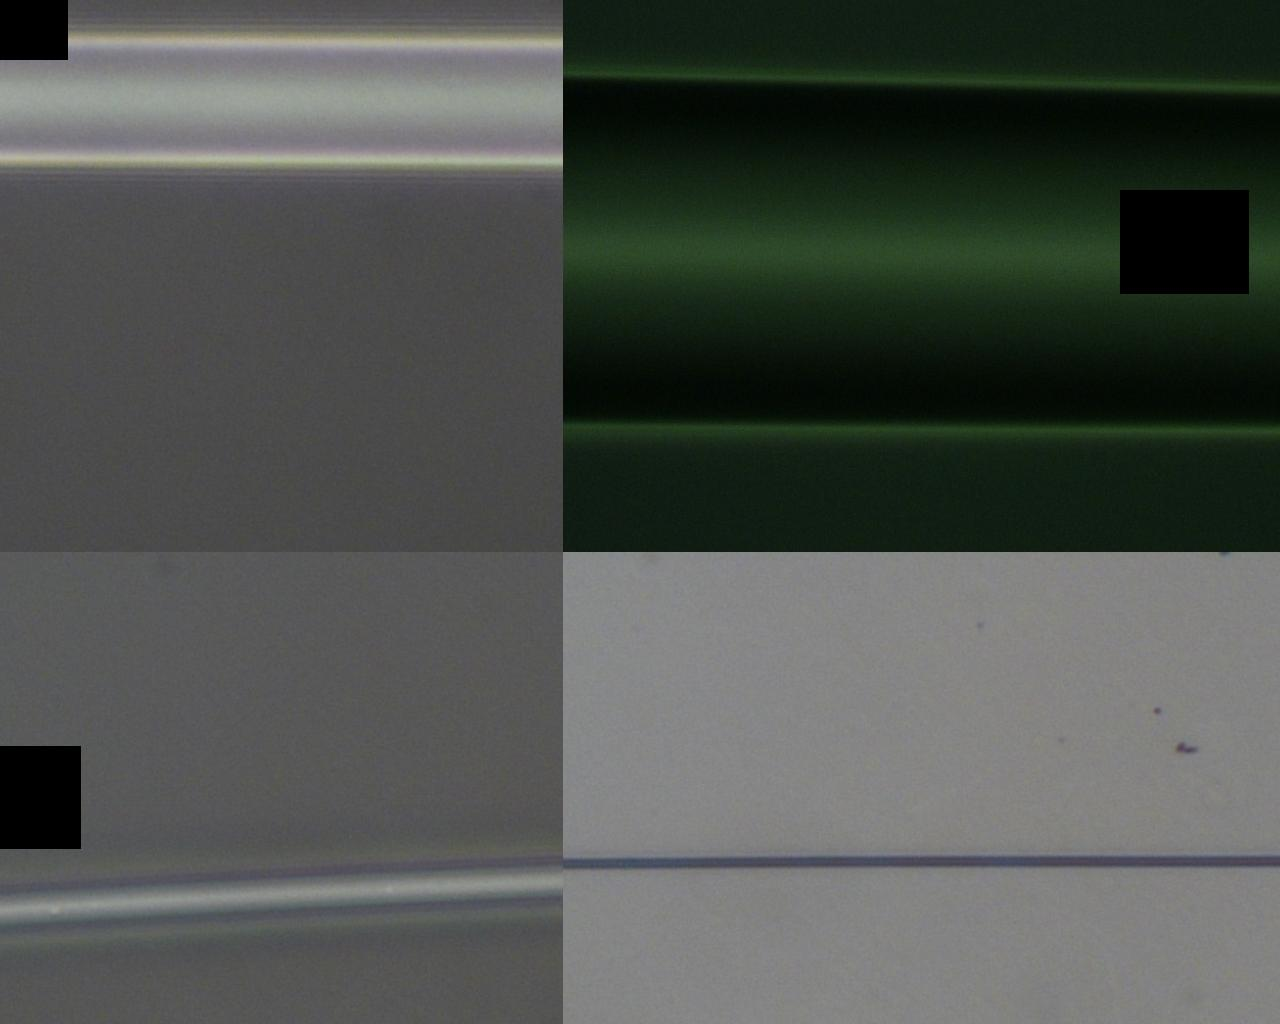fiber: (64, 357, 742, 744), (848, 322, 1280, 599), (742, 0, 977, 286), (464, 0, 693, 286)
